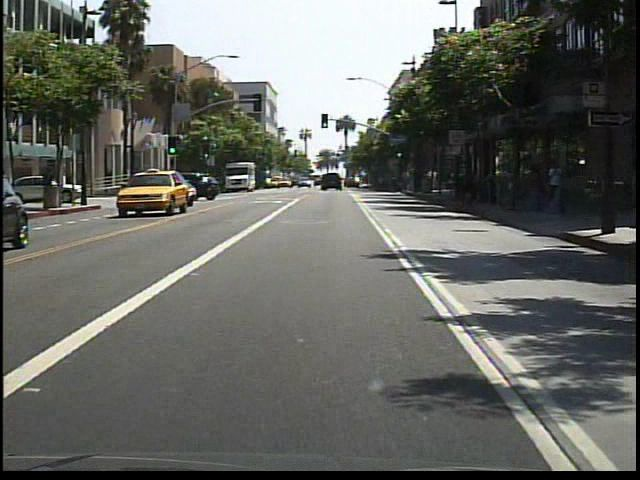person: (541, 157, 565, 224)
